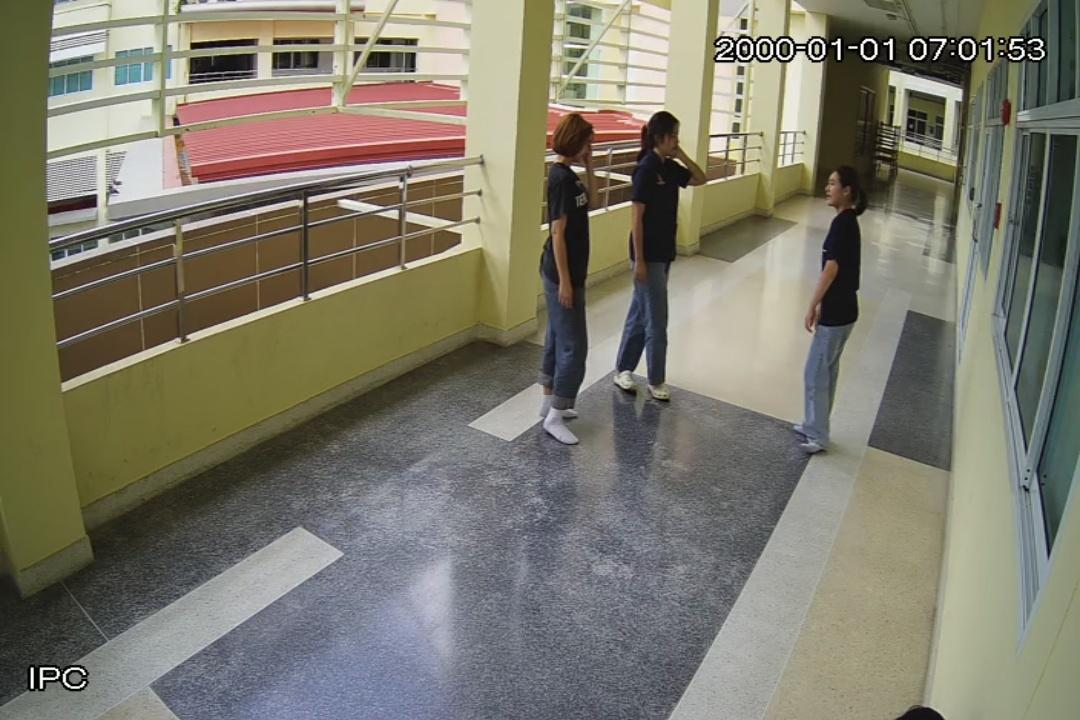normal: (610, 104, 710, 408), (787, 163, 870, 456), (534, 104, 598, 450)
